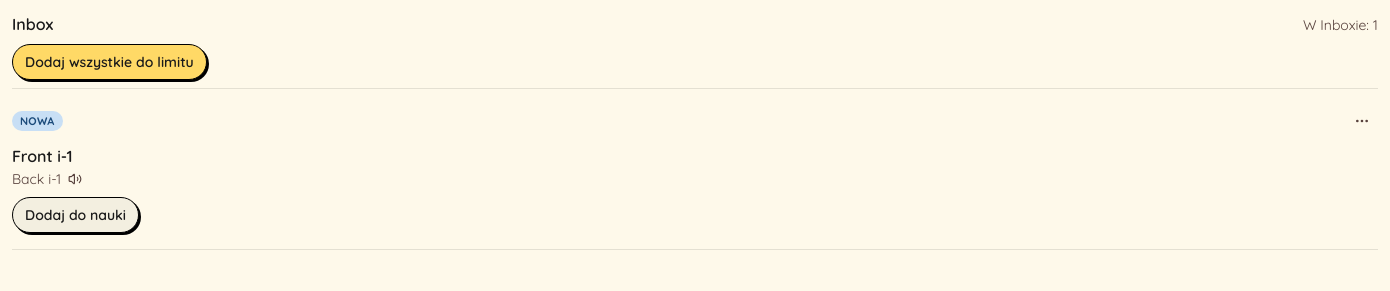
Test: InboxSection manual activation (ticket 06) › shows a server-side limit error under the bulk button
What coordinates should you click on to do the following:
click the button "Dodaj wszystkie do limitu"
I would click on:
 (109, 62)
Its box is [12,44,207,80].
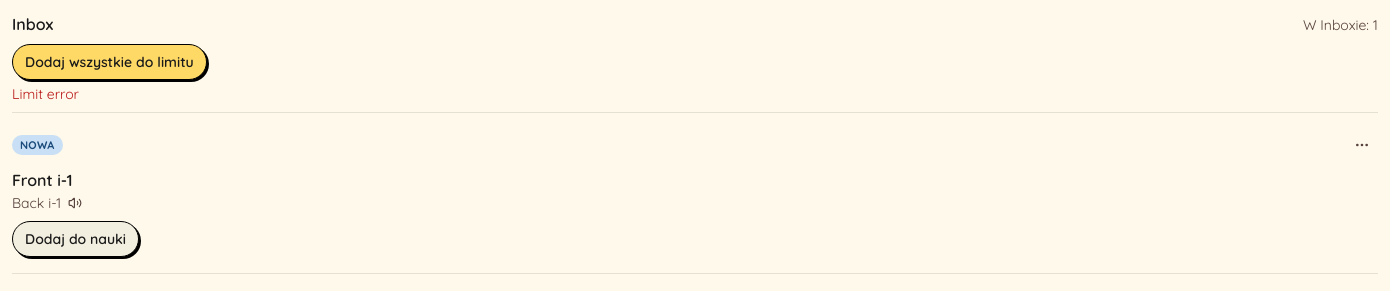
Now the message reads "Limit error", box [12,85,79,103]
